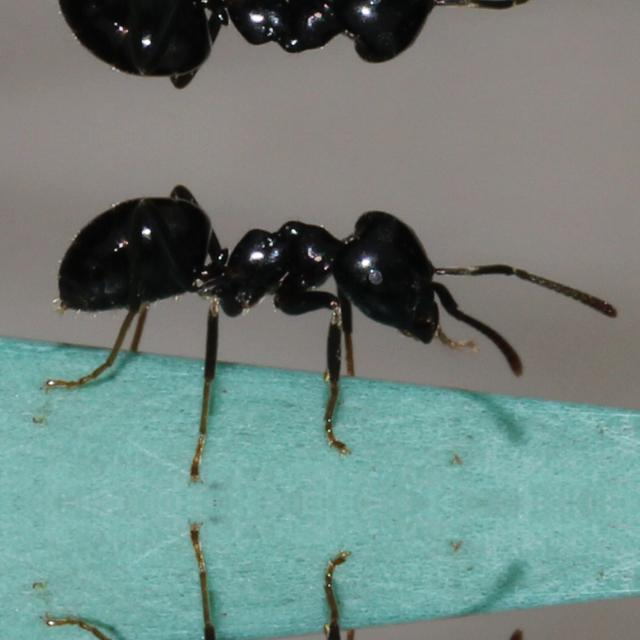Lasius: (88, 145, 506, 427), (86, 0, 505, 126), (87, 576, 506, 640)
